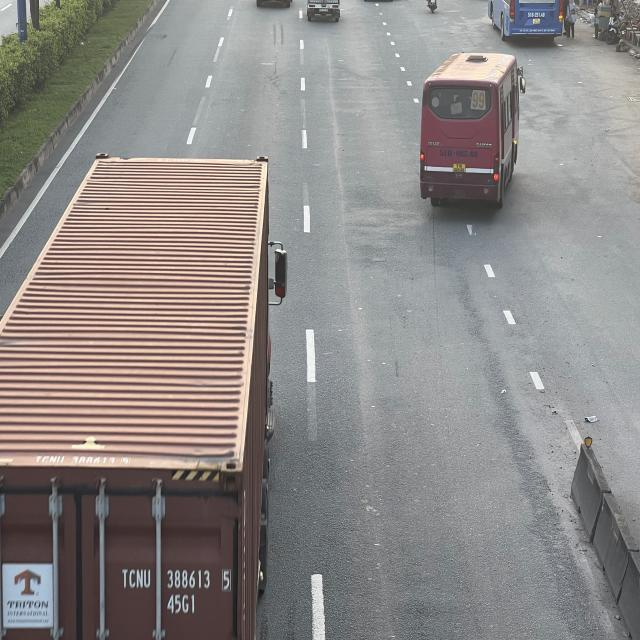coach: (419, 55, 525, 208)
container: (1, 155, 288, 635)
